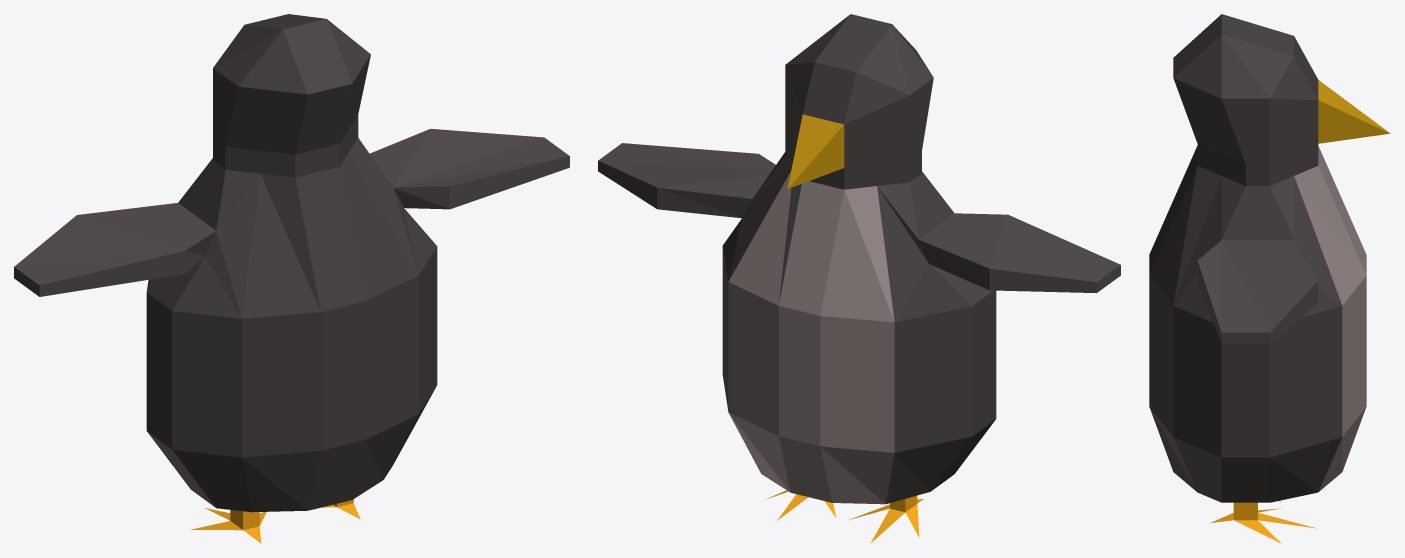
Rendered from npc_world_penguin_0.obj.
3 views of the same model, side by side, from view 1: azimuth 30°, elevation 25°; view 2: azimuth 150°, elevation 25°; view 3: azimuth 270°, elevation 25° (orthographic). The views are drawn at different scales.
Bounding box in the file's own units: 0.75 × 0.6875 × 0.3125.
